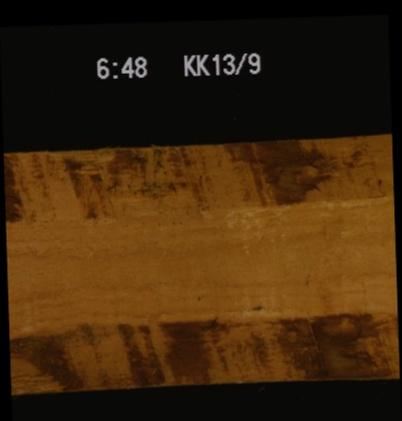wave: (3, 138, 391, 214), (9, 315, 396, 386)
